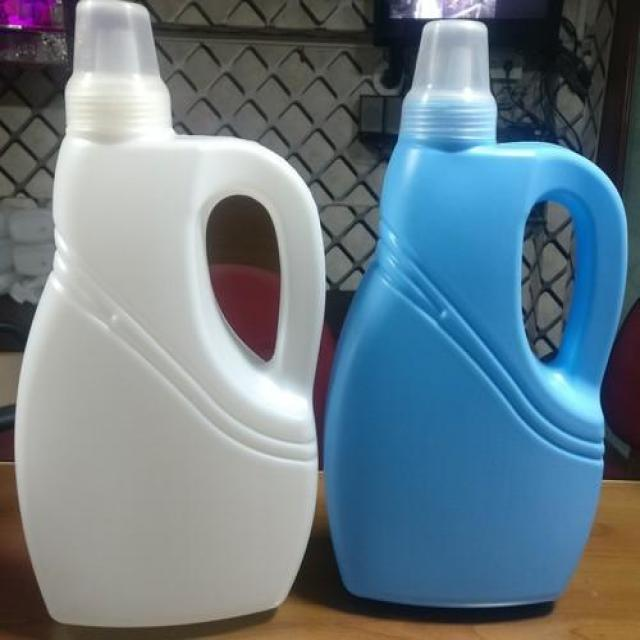plastic_bottle: (36, 12, 308, 606), (348, 32, 600, 601)
